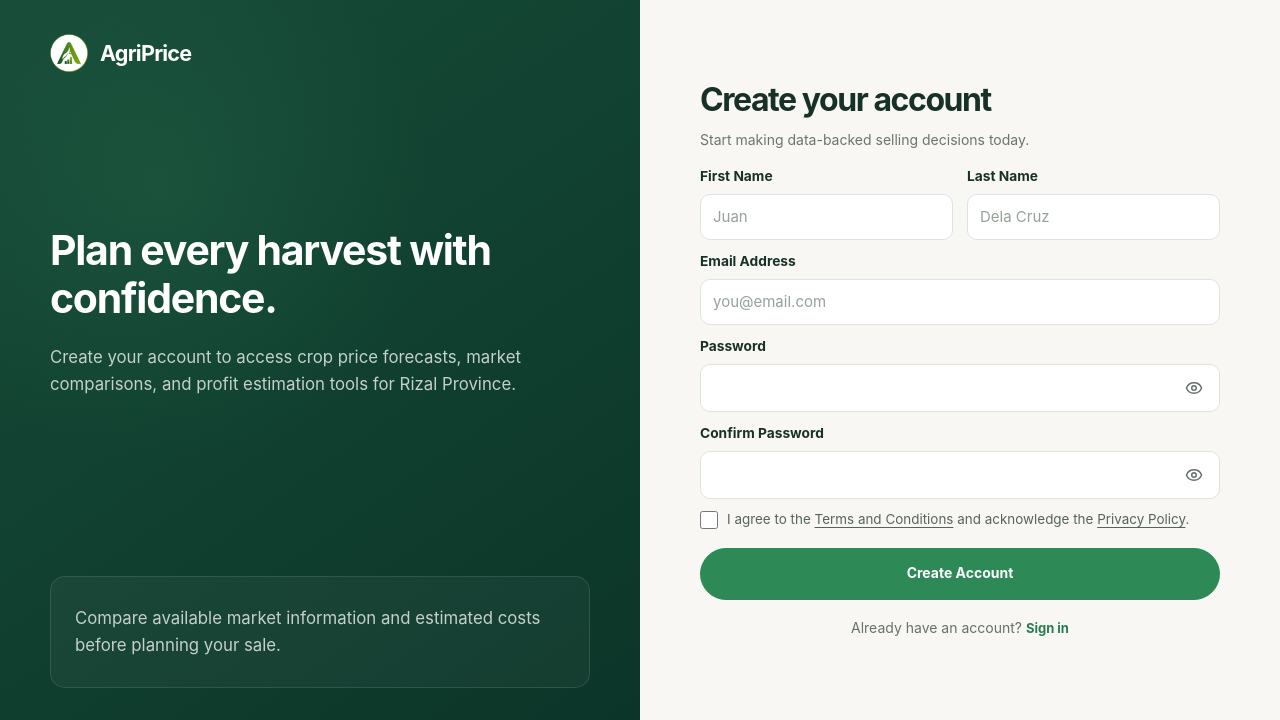
Test: public registration › shows required messages under blank registration fields
Click the button "Create Account".
click(960, 574)  # box 700,548 -> 1220,600
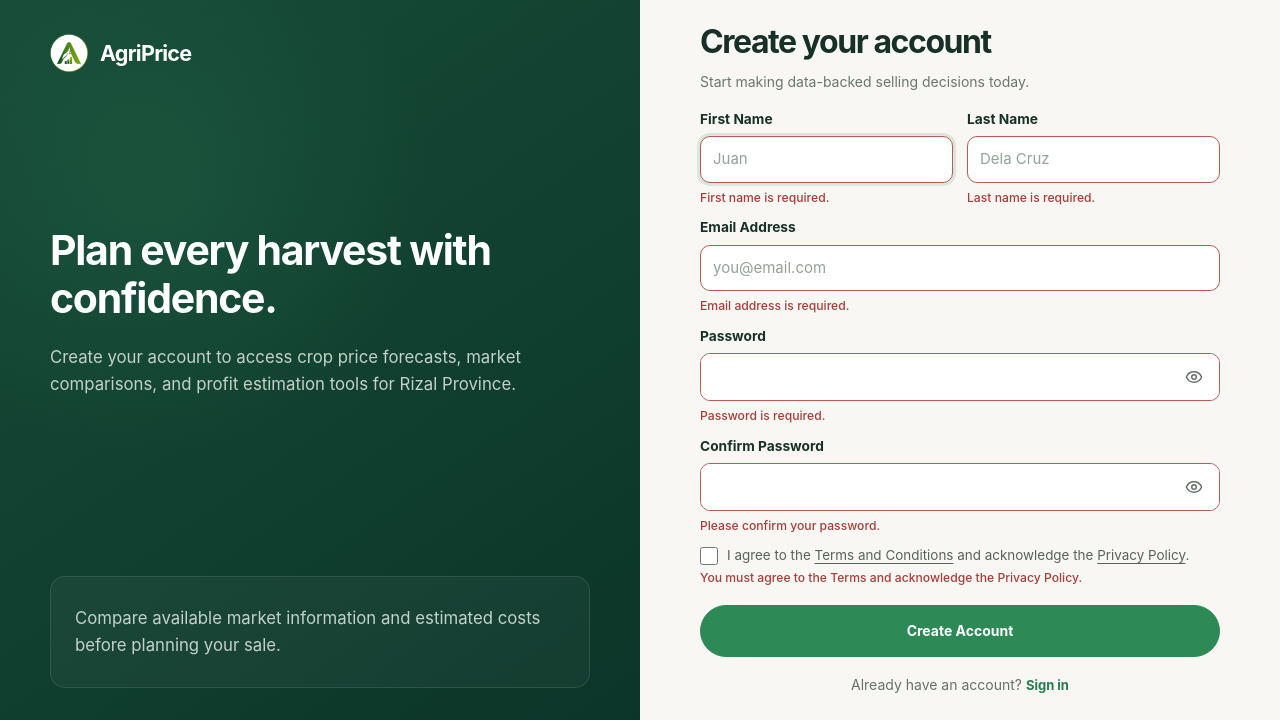
Expected: the text "First name is required." is shown, 700,190 -> 829,205
Expected: the text "Email address is required." is shown, 700,298 -> 849,313
Expected: the text "Password is required." is shown, 700,408 -> 825,423
